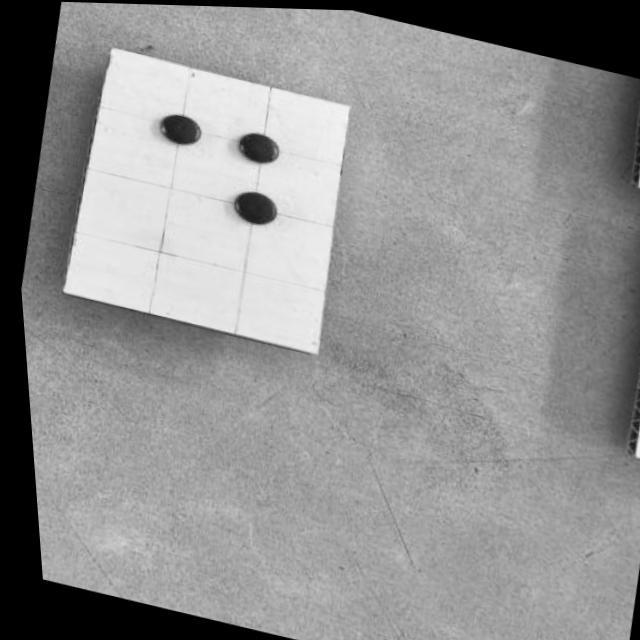braiile: (63, 52, 339, 345)
